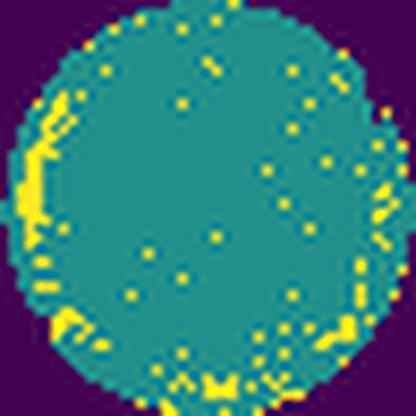Loc: (18, 90, 79, 250), (51, 305, 96, 343), (317, 314, 360, 351), (200, 369, 240, 400)
